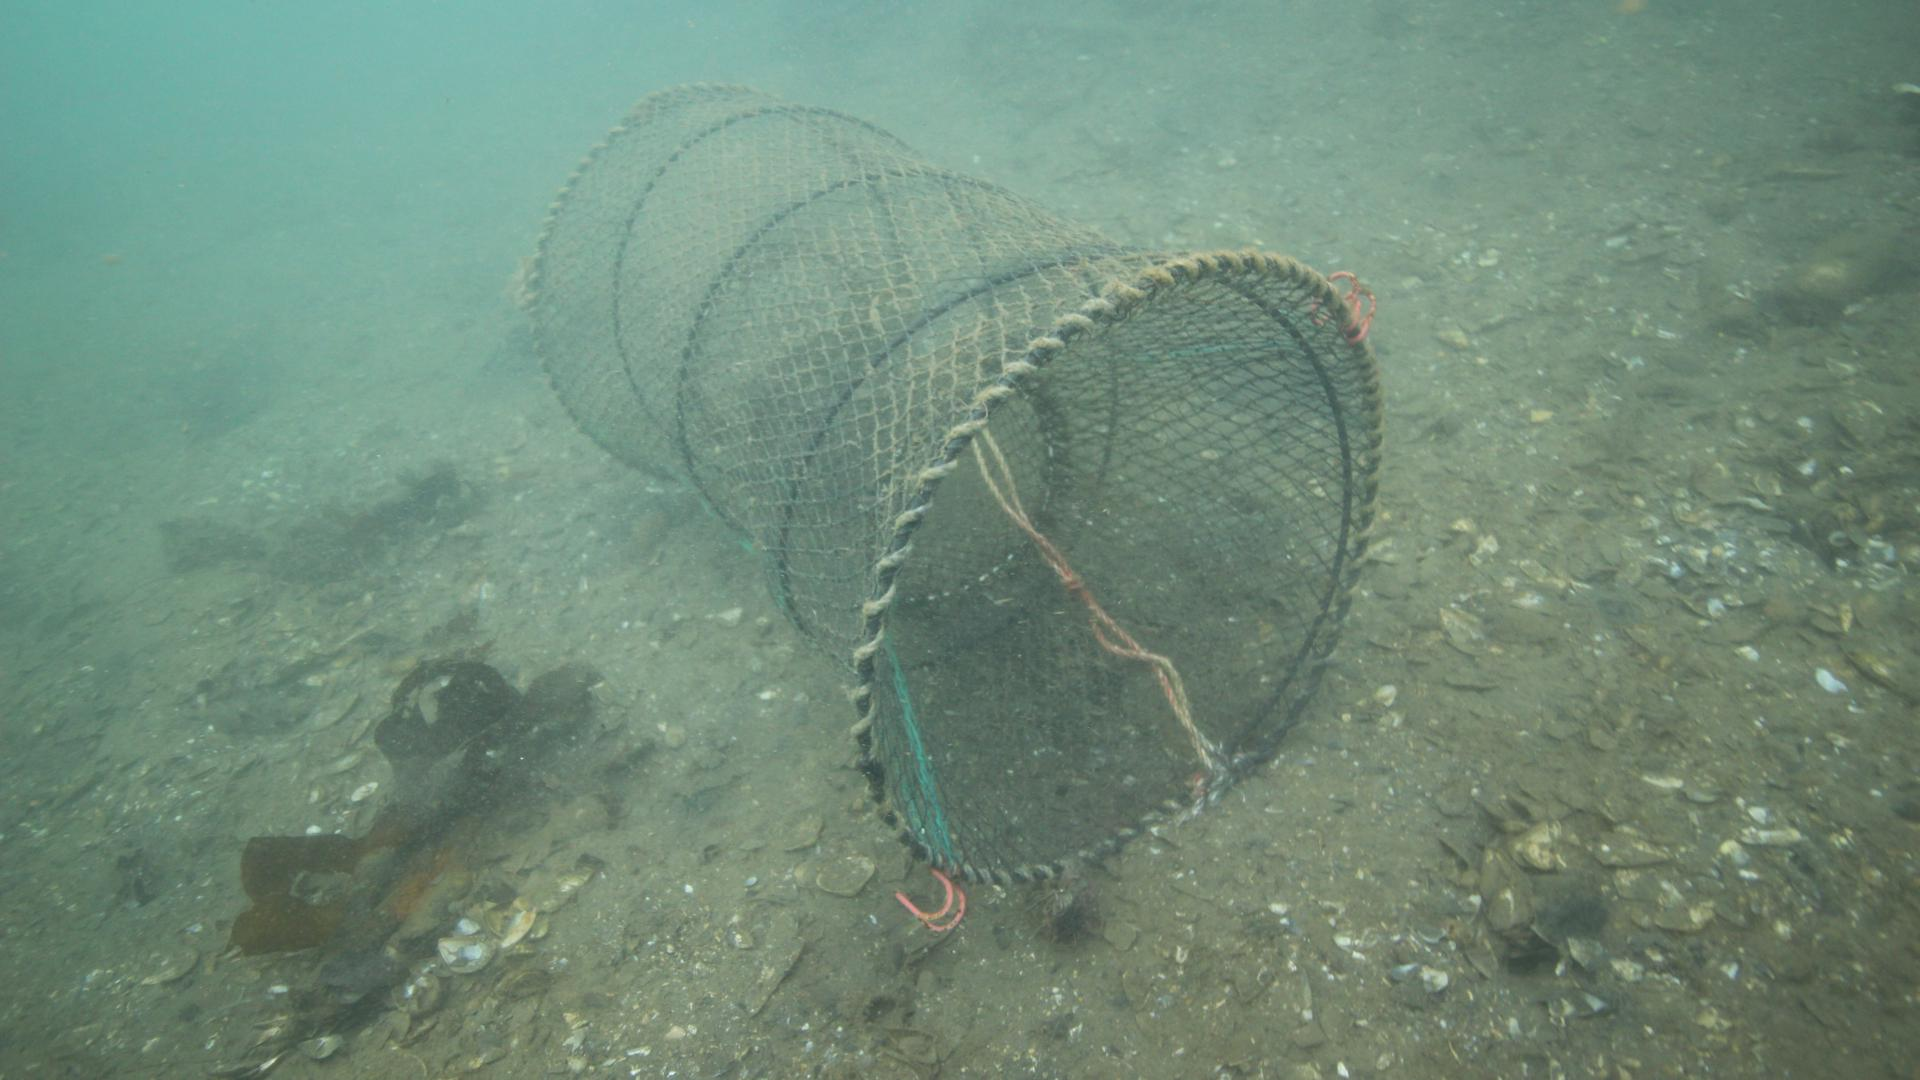spring fish trap: (524, 80, 1379, 893)
